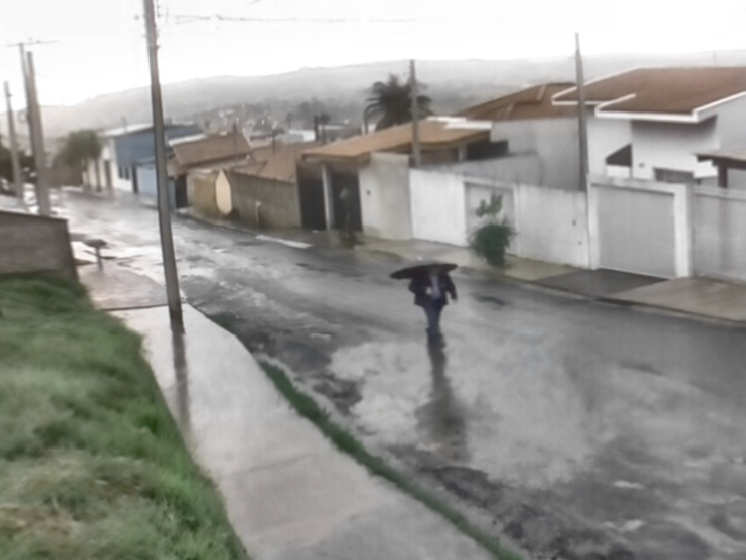person: (407, 267, 460, 347)
